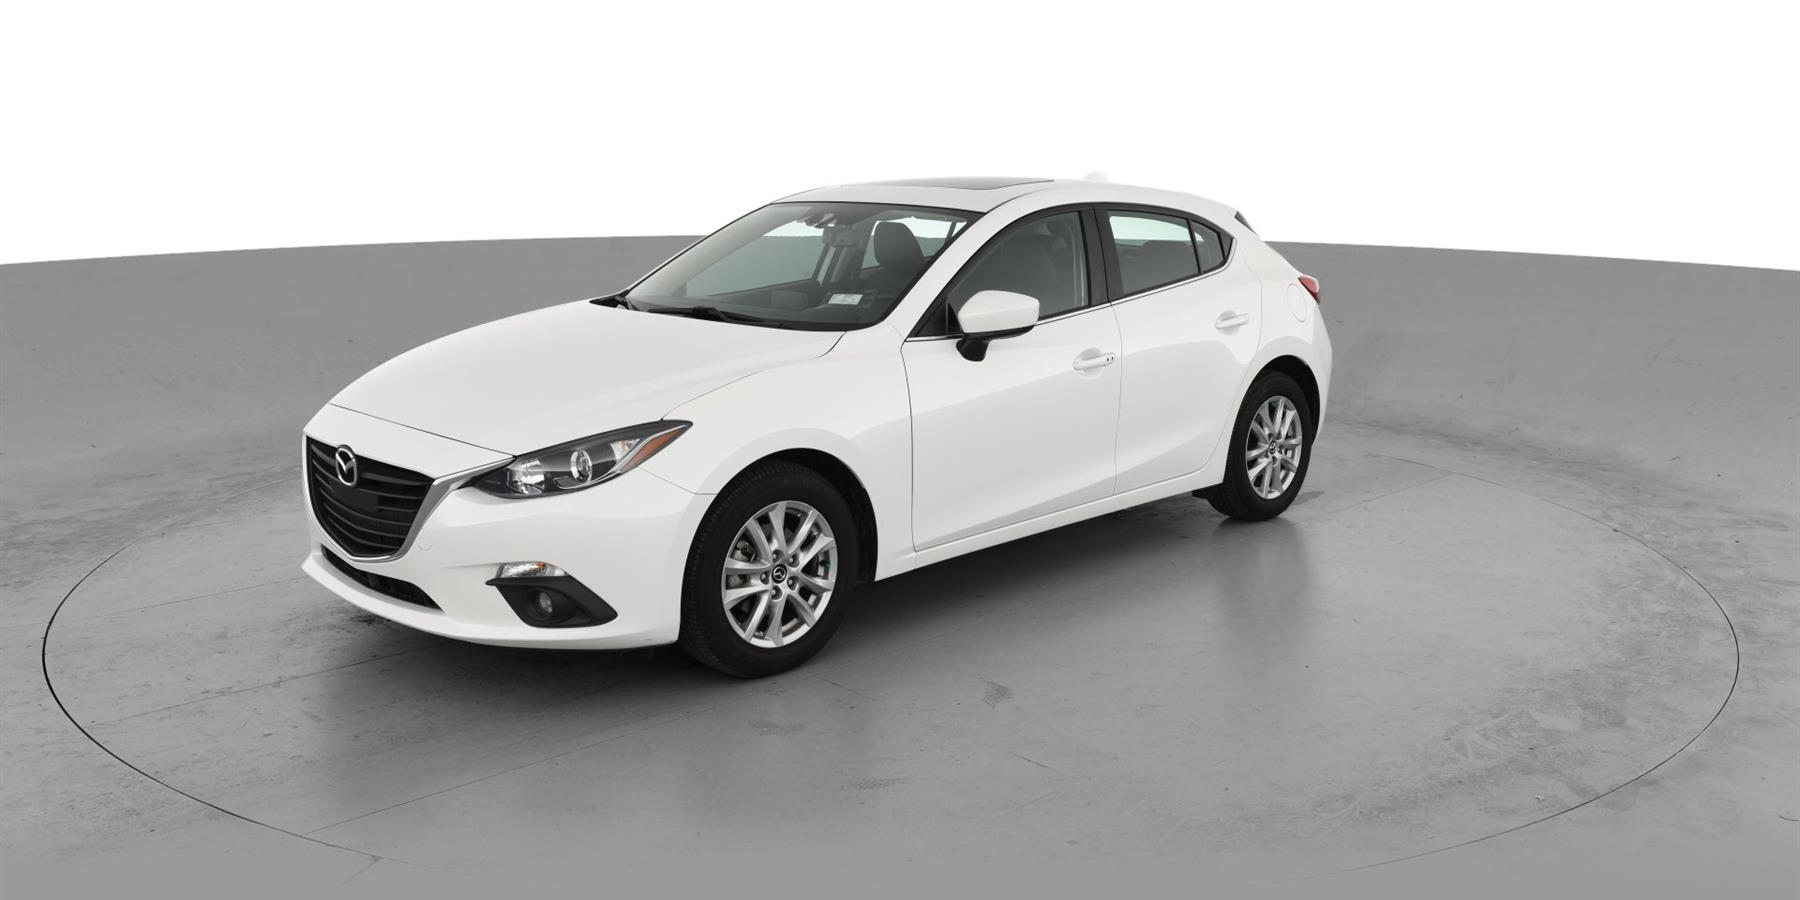Mazda3 Hatchback: (297, 170, 1336, 678)
